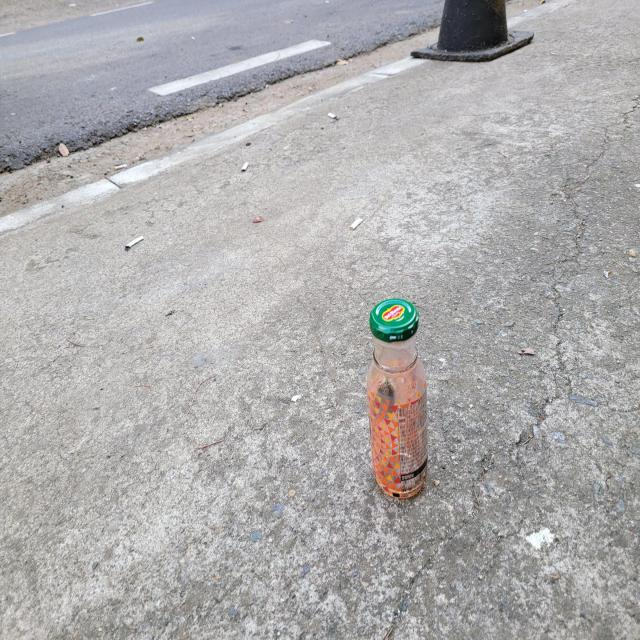glass: (367, 298, 429, 499)
